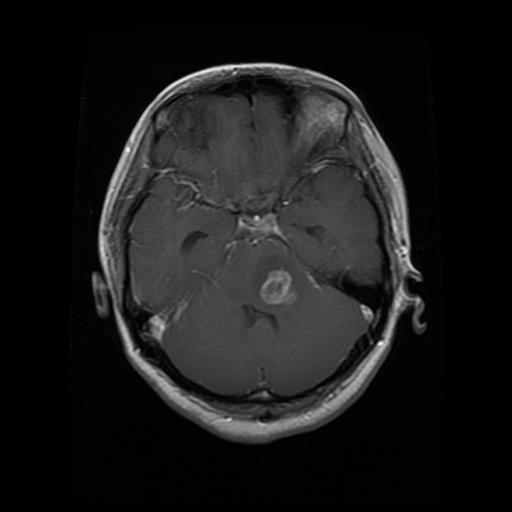Gliomia_tumour: (258, 265, 296, 307)
